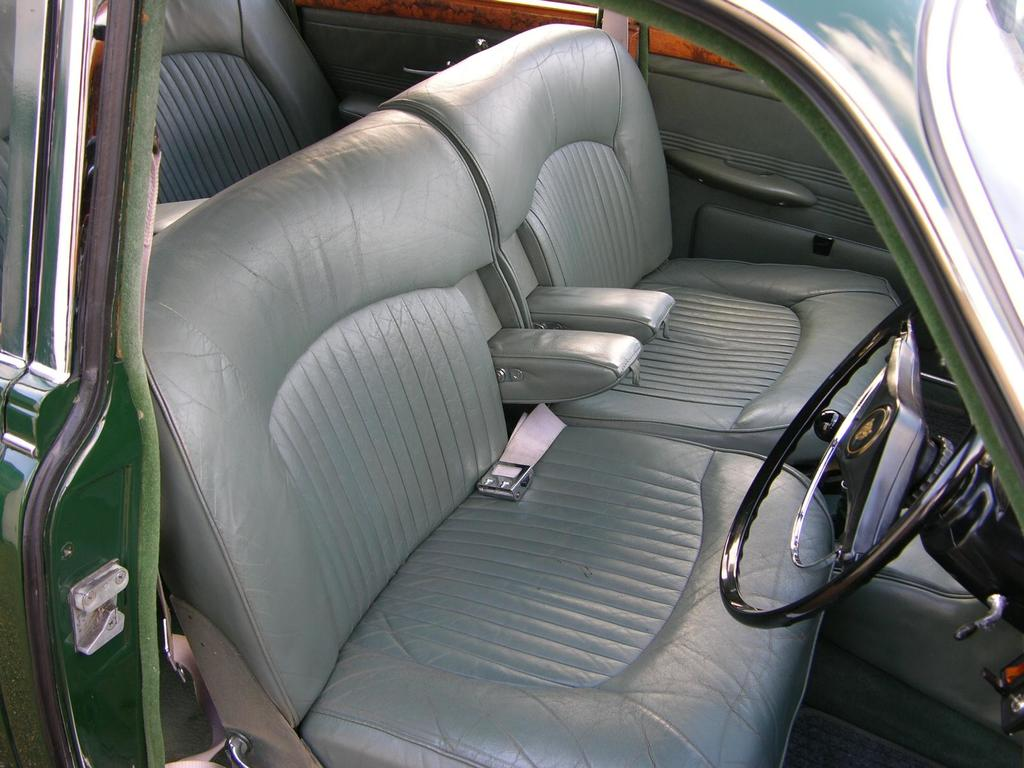Car: (40, 0, 1024, 768)
